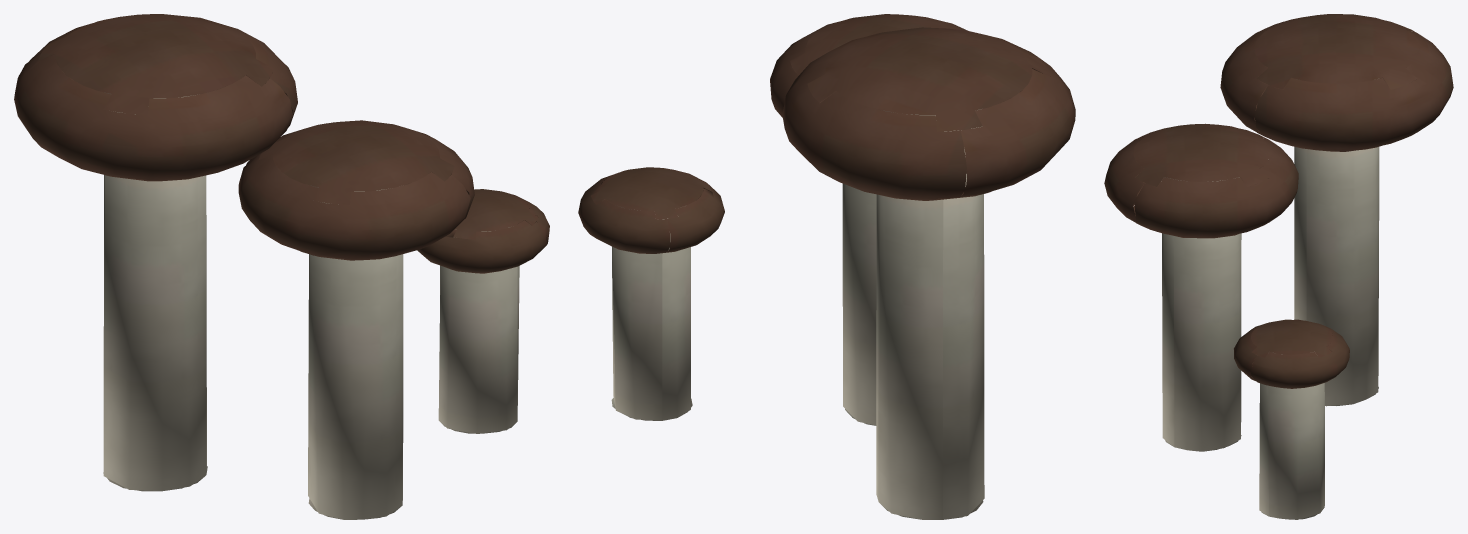
File: NT12_Mushrooms.glb
3 renders of one model, left to right at view 1: azimuth 30°, elevation 25°; view 2: azimuth 150°, elevation 25°; view 3: azimuth 270°, elevation 25°, orthographic. The views are drawn at different scales.
Visible parts, largest first — view 1: NT12_Mushrooms; view 2: NT12_Mushrooms; view 3: NT12_Mushrooms.
Part boxes in pixels (x1,y1,x2,y2): NT12_Mushrooms: (14,14,549,519); NT12_Mushrooms: (578,14,1075,519); NT12_Mushrooms: (1104,14,1453,519).
Size of the model in its own units: 0.3006 by 0.2575 by 0.23.
Materials: 2 (2 with a texture image).
